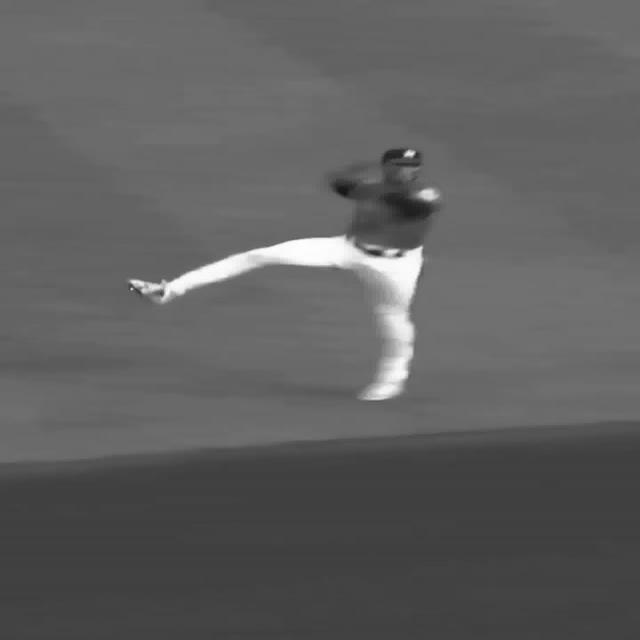baseball_glove: (334, 164, 388, 187)
shoe: (127, 278, 173, 304), (355, 382, 405, 402)
